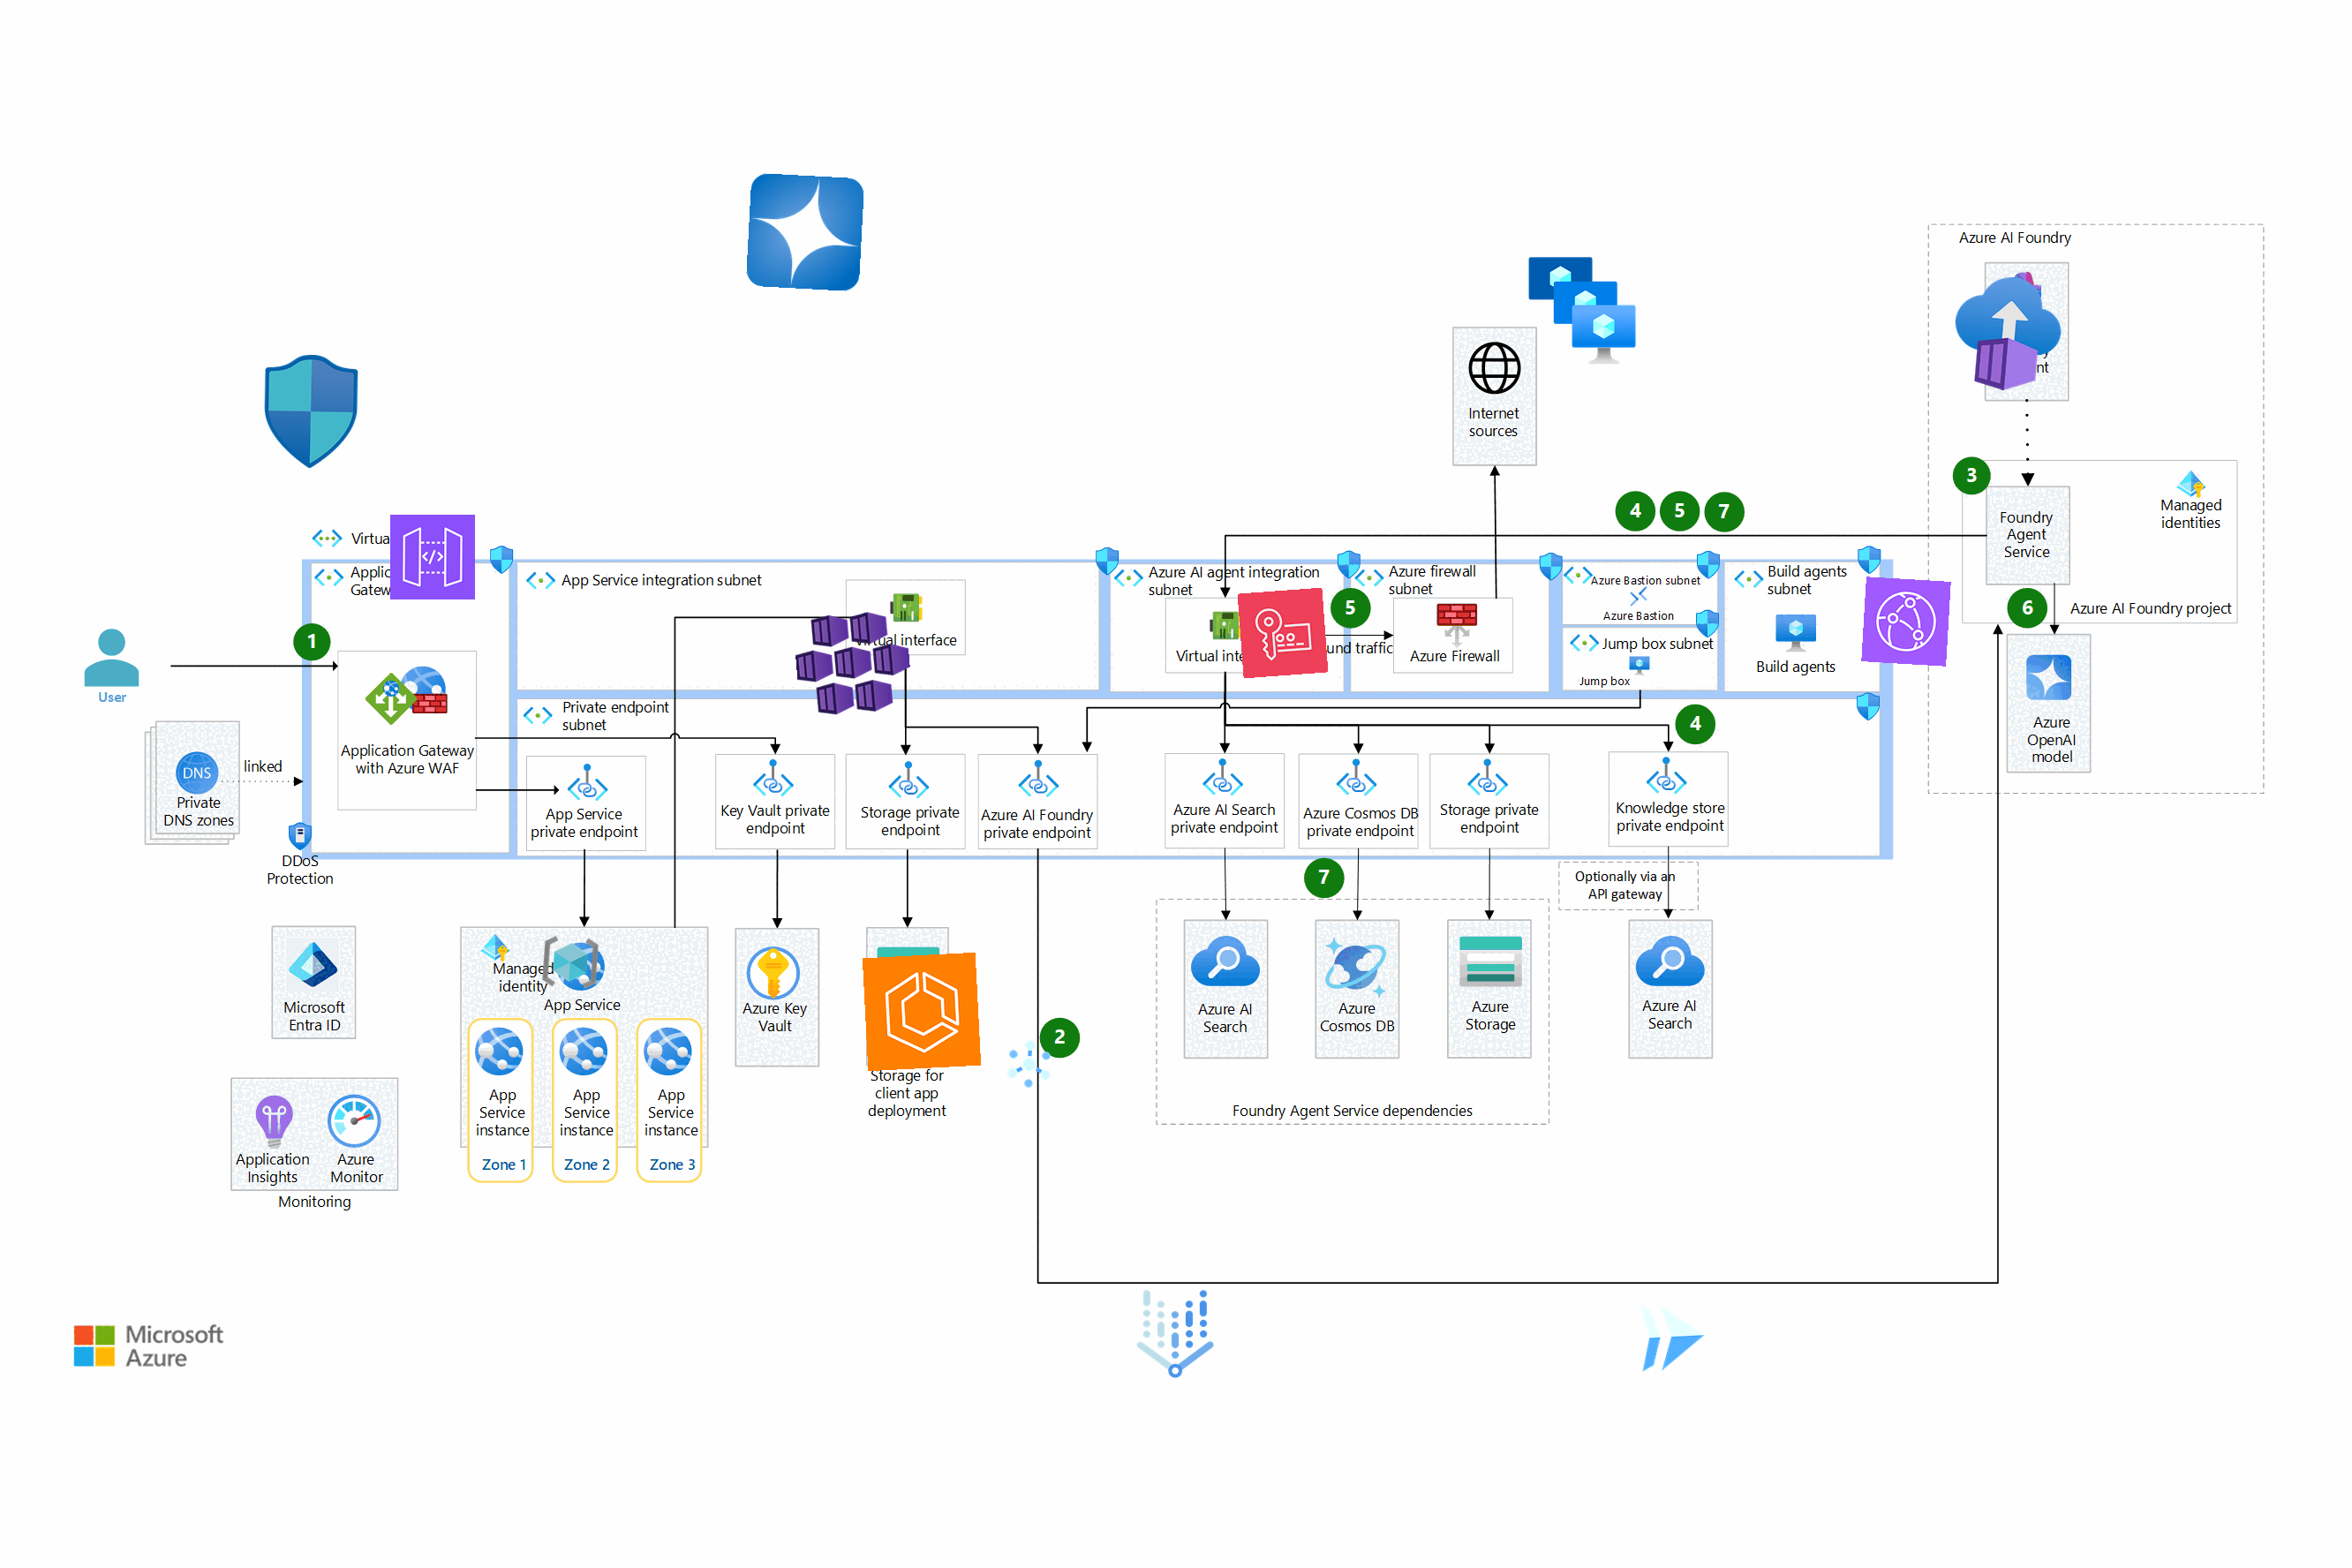aws_amazon_api_gateway: (388, 514, 476, 600)
aws_amazon_cloudfront: (1860, 576, 1951, 667)
aws_amazon_elastic_container_service: (861, 952, 982, 1071)
aws_key_management_service: (1237, 586, 1328, 679)
azure_container_instances: (1946, 271, 2070, 395)
azure_kubernetes_services: (791, 600, 915, 724)
azure_network_security_groups: (252, 353, 369, 469)
azure_openai: (745, 171, 864, 292)
azure_resource_groups: (539, 931, 602, 994)
azure_vm_scale_sets: (1522, 250, 1638, 366)
gcp_cloud_run: (1626, 1291, 1717, 1382)
gcp_pubsub: (999, 1034, 1059, 1094)
gcp_vertex_ai: (1118, 1277, 1232, 1391)
